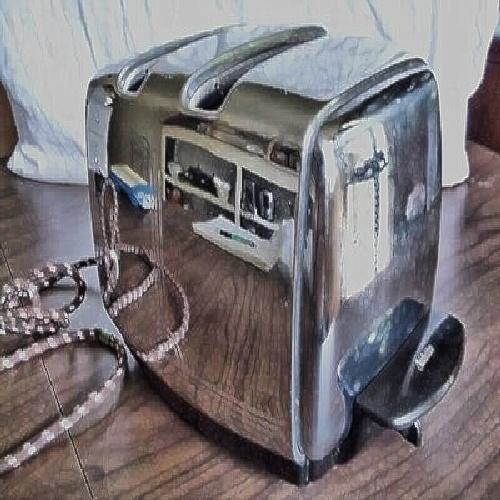toaster: (91, 36, 463, 449)
